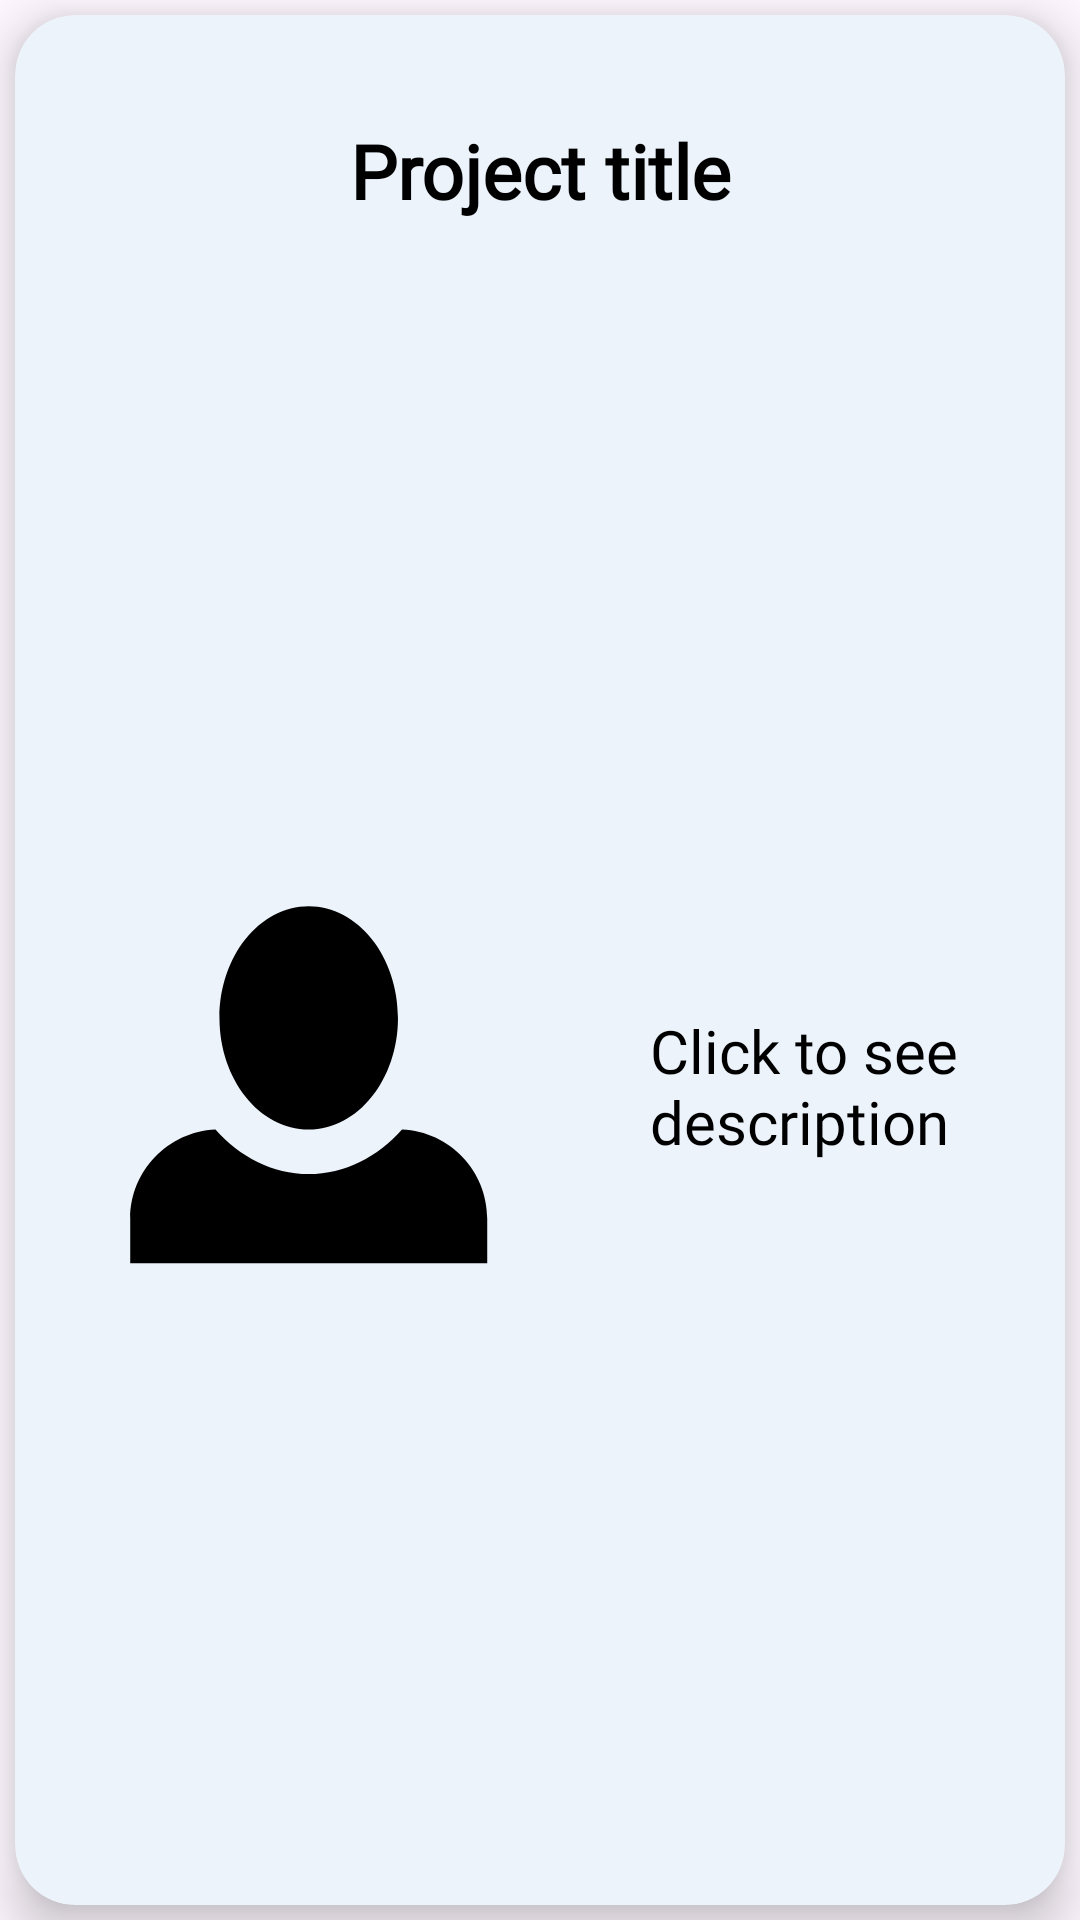

Icon click points for this 1080px×1920px phone screenshot, format (x=x, y=y):
profile: (x=309, y=1085)
